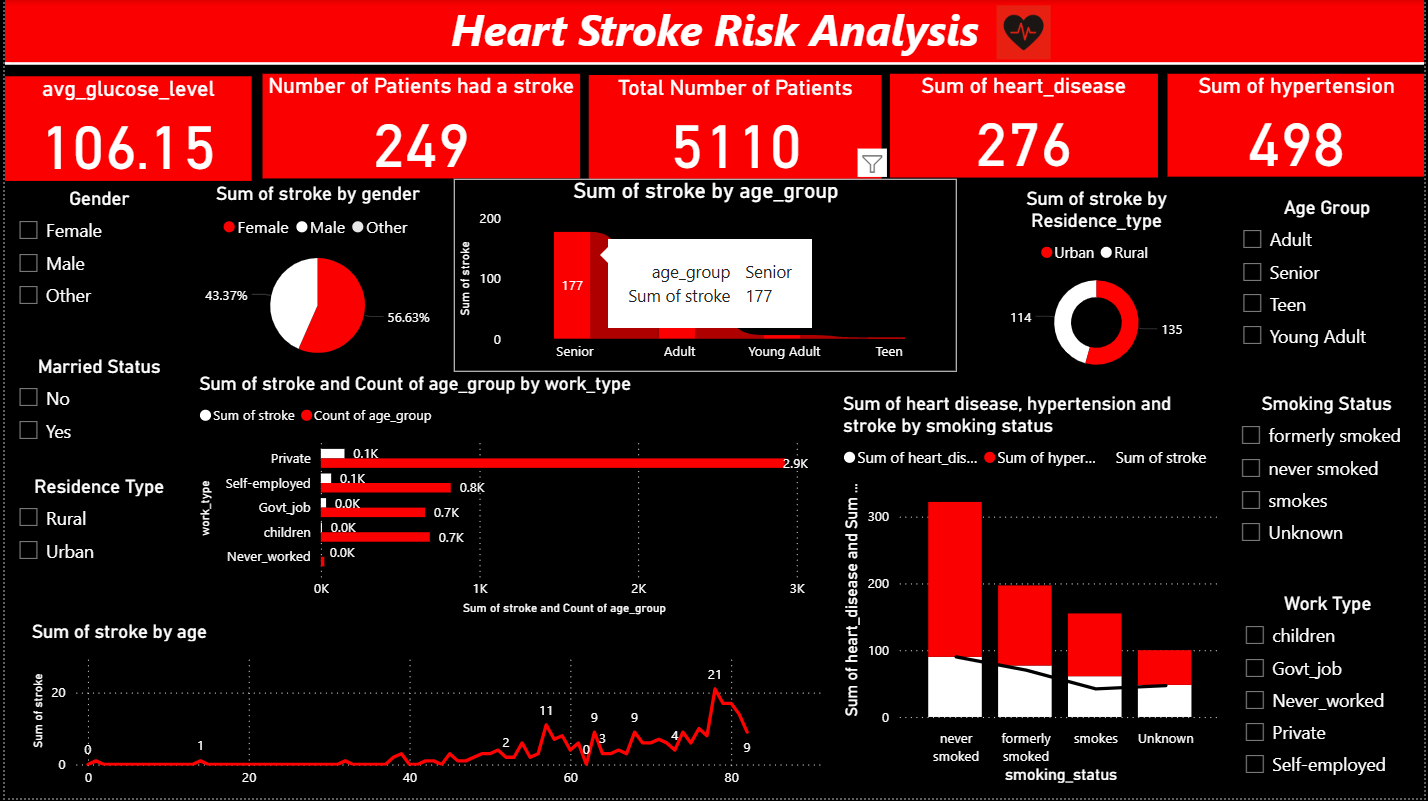

What the dashboard file says about the page in this screenshot:
{"tool":"powerbi","page":{"name":"Page 1","canvas":[1280,720],"ordinal":0},"visuals":[{"type":"card","title":"Total Number of Patients","fields":{"Values":["CountNonNull(health_care customer.customer_id)"]},"box":[525.8,67.3,264.1,94.2],"z":0},{"type":"card","title":"Number of Patients had a stroke","fields":{"Values":["Sum(health_care customer.stroke)"]},"box":[232.2,66.5,286.3,94.7],"z":1000},{"type":"pieChart","fields":{"Category":["health_care customer.gender"],"Y":["Sum(health_care customer.stroke)"]},"box":[170,165.1,223.8,171.2],"z":2000},{"type":"ribbonChart","fields":{"Category":["health_care customer.age_group"],"Y":["Sum(health_care customer.stroke)"]},"box":[404.7,161.6,454.7,174.4],"z":3000},{"type":"textbox","title":" Heart Stroke Risk Analysis","box":[0,0,1280.3,58.7],"z":4000},{"type":"lineChart","fields":{"Y":["Sum(health_care customer.stroke)"],"Category":["health_care customer.age"]},"box":[18.6,559.3,723.3,160.5],"z":5000},{"type":"clusteredBarChart","fields":{"Category":["health_care customer.work_type"],"Y":["Sum(health_care customer.stroke)","CountNonNull(health_care customer.age_group)"]},"box":[169.8,336,572.1,223.3],"z":6000},{"type":"card","title":"Sum of heart_disease","fields":{"Values":["Sum(health_care customer.heart_disease)"]},"box":[798,66.5,241.2,93.6],"z":7000},{"type":"donutChart","fields":{"Category":["health_care customer.Residence_type"],"Y":["Sum(health_care customer.stroke)"]},"box":[864,168.6,239.5,175.6],"z":8000},{"type":"lineStackedColumnComboChart","title":"Sum of heart disease, hypertension and stroke by smoking status","fields":{"Y":["Sum(health_care customer.heart_disease)","Sum(health_care customer.hypertension)"],"Y2":["Sum(health_care customer.stroke)"],"Category":["health_care customer.smoking_status"]},"box":[750.7,353.9,351.7,357.3],"z":10000},{"type":"slicer","title":"Gender","fields":{"Values":["health_care customer.gender"]},"box":[0,168.8,170,129.6],"z":11000},{"type":"slicer","title":"Work Type","fields":{"Values":["health_care customer.work_type"]},"box":[1105.7,534.1,173.9,186.4],"z":12000},{"type":"slicer","title":"Married Status","fields":{"Values":["health_care customer.ever_married"]},"box":[0,320.4,170,96.6],"z":13000},{"type":"card","title":"avg_glucose_level","fields":{"Values":["Avg(health_care customer.avg_glucose_level)"]},"box":[0,68.5,222.6,94.2],"z":14000},{"type":"card","title":"Sum of hypertension","fields":{"Values":["Sum(health_care customer.hypertension)"]},"box":[1047.7,66.3,232.6,93],"z":15000},{"type":"slicer","title":"Residence Type","fields":{"Values":["health_care customer.Residence_type"]},"box":[0,428,170,106.4],"z":16000},{"type":"slicer","title":"Smoking Status","fields":{"Values":["health_care customer.smoking_status"]},"box":[1101.8,353.4,178.5,149.2],"z":17000},{"type":"slicer","title":"Age Group","fields":{"Values":["health_care customer.age_group"]},"box":[1103.4,177,177,158.9],"z":18000},{"type":"image","box":[858.9,0,119.5,58.6],"z":19000}]}

Visuals, with their boxes in screenshot pixels (x1, y1, x2, y2), scaled from the page's 1280x720 canvas onto the 1428x801 screenshot:
"Total Number of Patients" card: box=[587, 75, 881, 180]
"Number of Patients had a stroke" card: box=[259, 74, 578, 179]
pieChart - health_care customer.gender x Sum(health_care customer.stroke): box=[190, 184, 439, 374]
ribbonChart - health_care customer.age_group x Sum(health_care customer.stroke): box=[451, 180, 959, 374]
" Heart Stroke Risk Analysis" textbox: box=[0, 0, 1427, 65]
lineChart - Sum(health_care customer.stroke) x health_care customer.age: box=[21, 622, 828, 800]
clusteredBarChart - health_care customer.work_type x Sum(health_care customer.stroke): box=[189, 374, 828, 622]
"Sum of heart_disease" card: box=[890, 74, 1159, 178]
donutChart - health_care customer.Residence_type x Sum(health_care customer.stroke): box=[964, 188, 1231, 383]
"Sum of heart disease, hypertension and stroke by smoking status" lineStackedColumnComboChart: box=[837, 394, 1230, 791]
"Gender" slicer: box=[0, 188, 190, 332]
"Work Type" slicer: box=[1234, 594, 1427, 800]
"Married Status" slicer: box=[0, 356, 190, 464]
"avg_glucose_level" card: box=[0, 76, 248, 181]
"Sum of hypertension" card: box=[1169, 74, 1427, 177]
"Residence Type" slicer: box=[0, 476, 190, 595]
"Smoking Status" slicer: box=[1229, 393, 1427, 559]
"Age Group" slicer: box=[1231, 197, 1427, 374]
image: box=[958, 0, 1092, 65]
